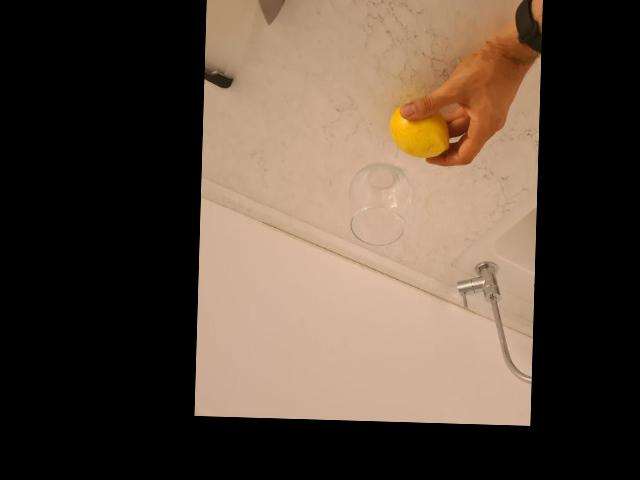lemon: (390, 106, 450, 156)
